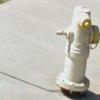Hydrant: (50, 2, 100, 100)
